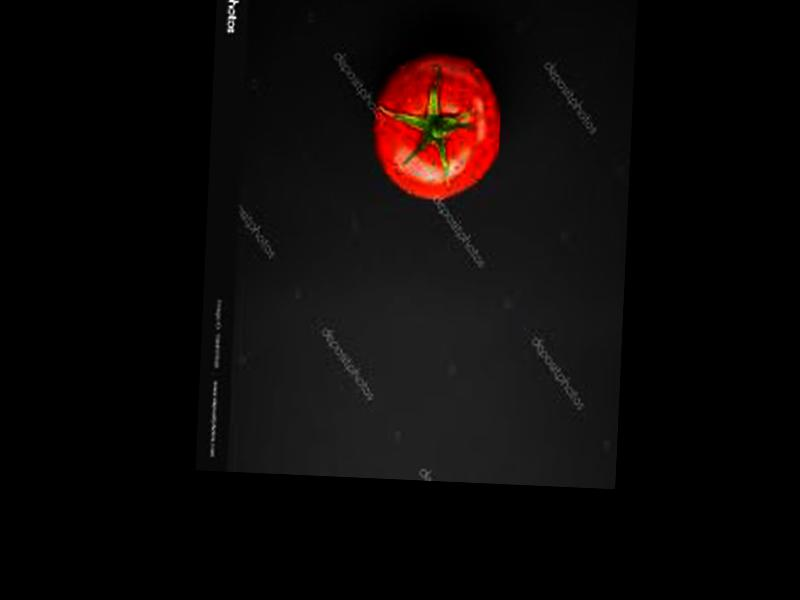Tomato: (369, 50, 505, 205)
